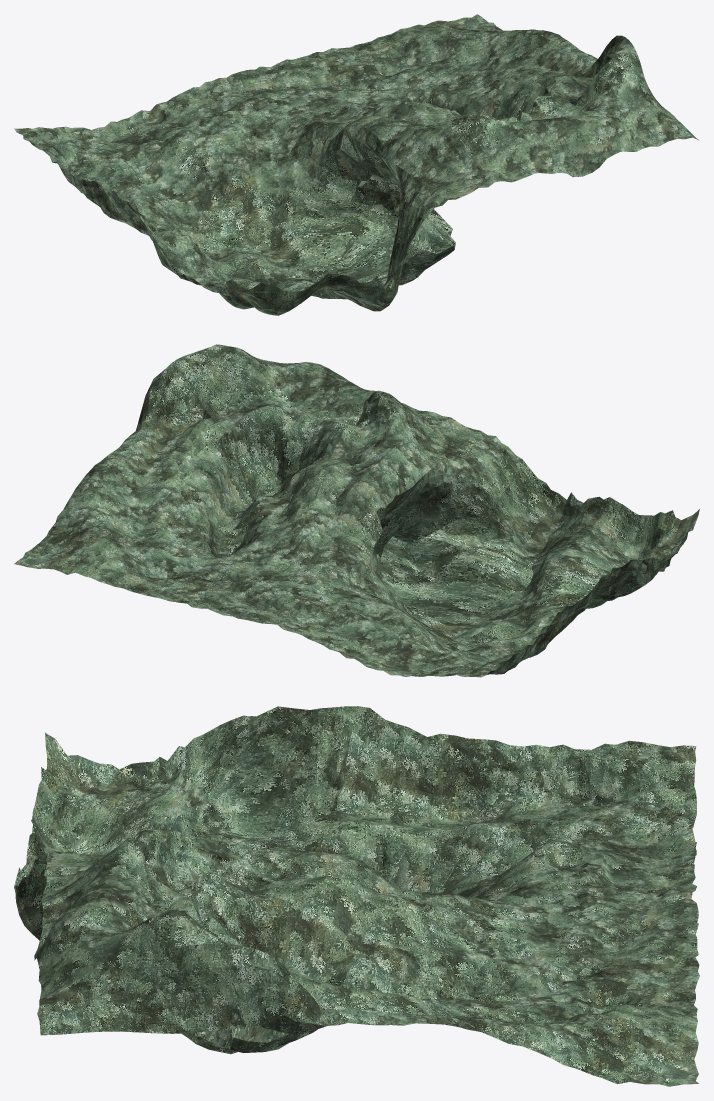
3 renders of one model, top to bottom at view 1: azimuth 30°, elevation 25°; view 2: azimuth 150°, elevation 25°; view 3: azimuth 270°, elevation 25°, orthographic. The views are drawn at different scales.
Parts seen in each view (by area): view 1: Plane; view 2: Plane; view 3: Plane.
Boxes of the visible parts, x1,y1,x2,y2 form: Plane: (14,14,698,315); Plane: (14,344,699,677); Plane: (14,706,699,1086).
Size of the model in its own units: 76.8 by 27.7 by 62.11.
Materials: 1 (1 with a texture image).
